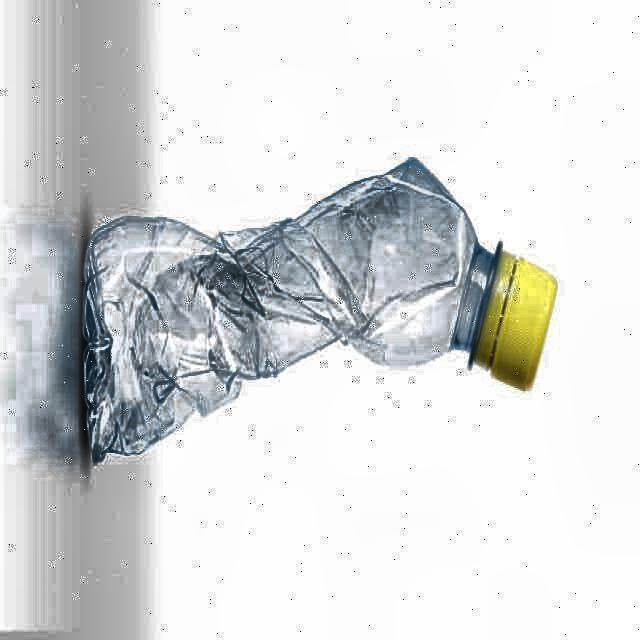plastic: (84, 159, 556, 462)
